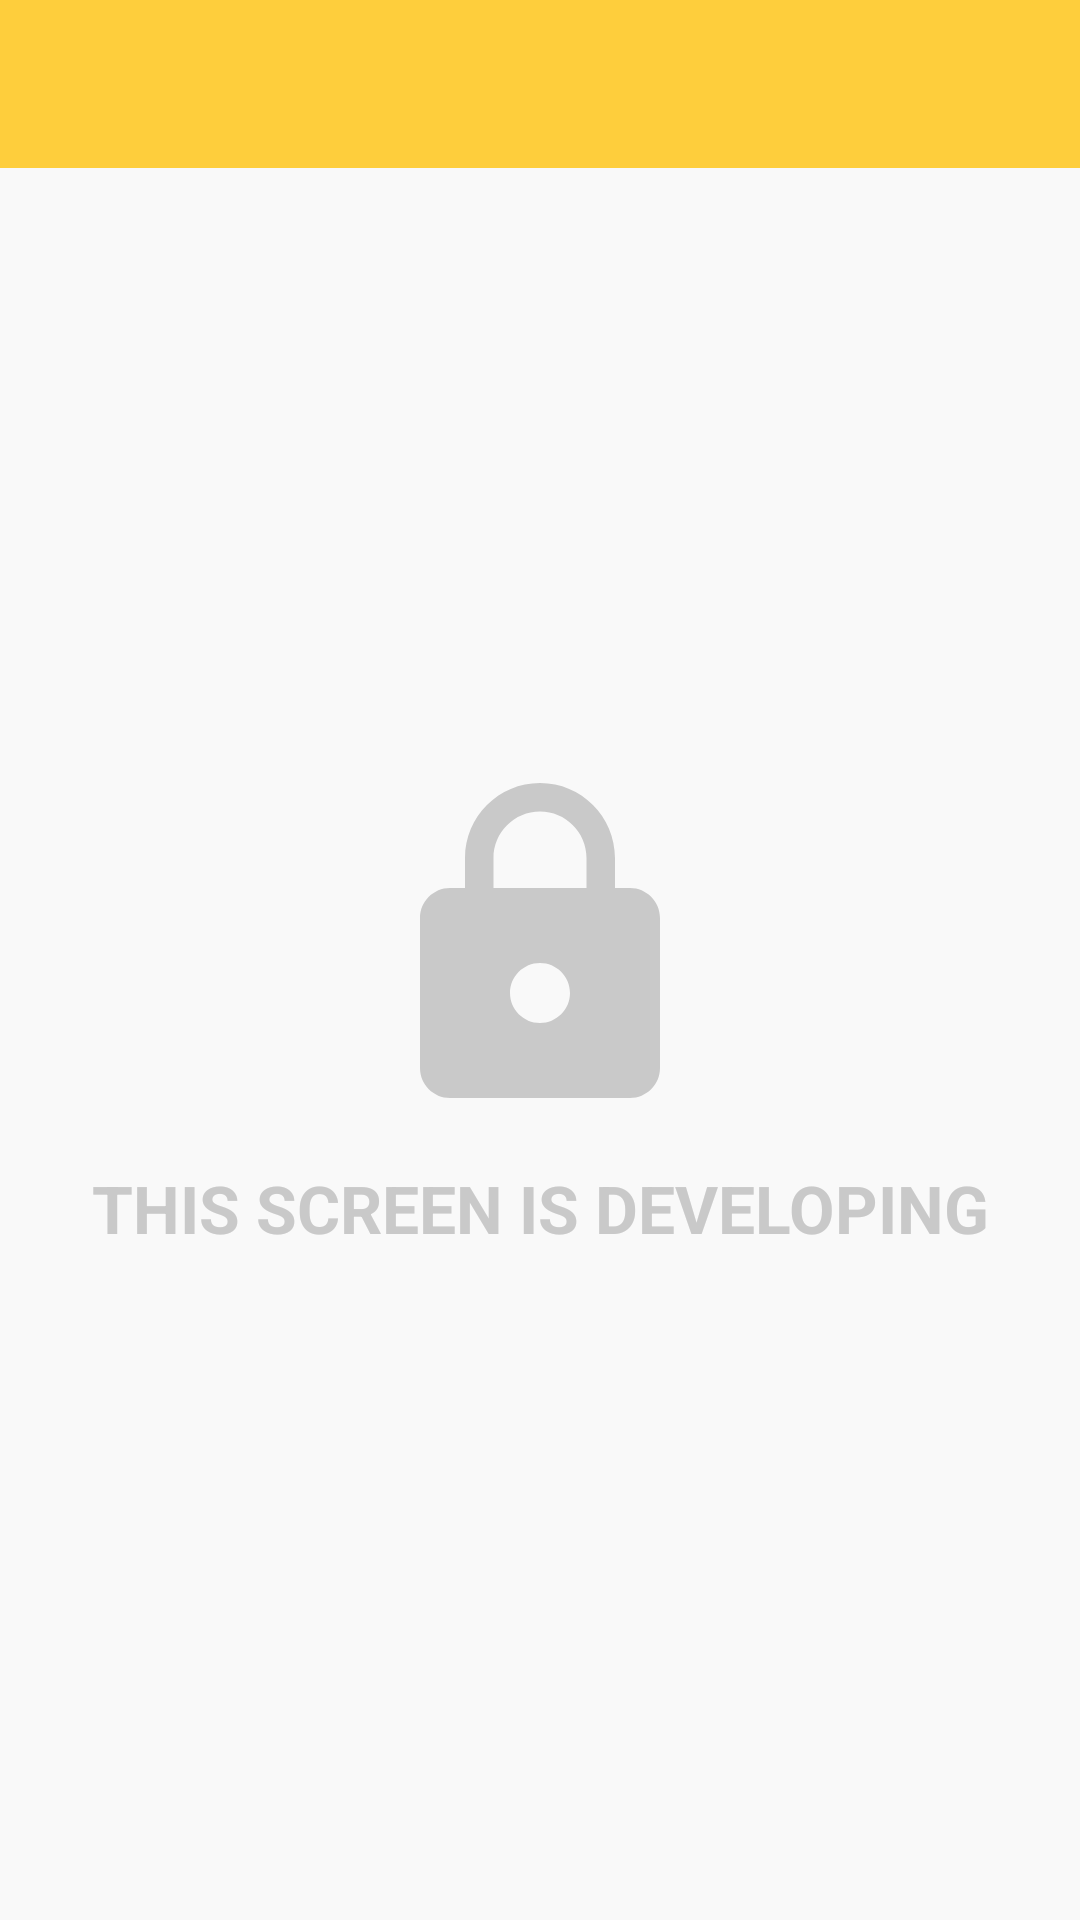

Screen size 1080*1920. Icon name, then its box in pixels as (x1, y1, x2, y2):
lock: (420, 783, 660, 1098)
